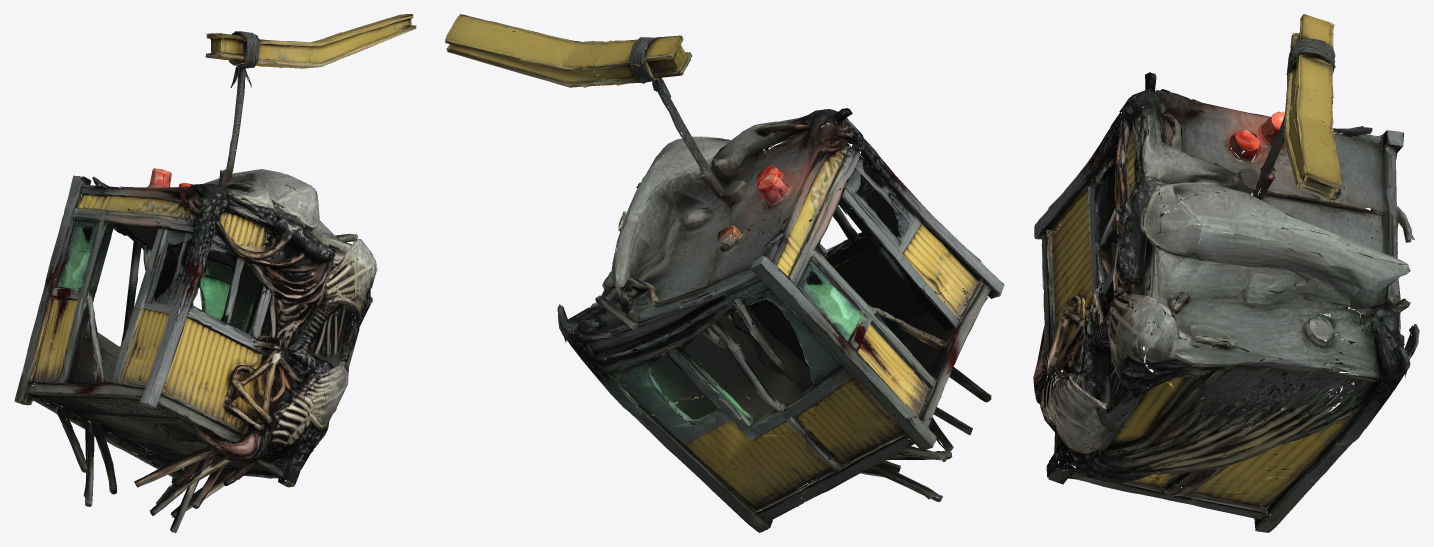
Rendered from chasm_hanging_elevator.glb.
3 views of the same model, side by side, from view 1: azimuth 30°, elevation 25°; view 2: azimuth 150°, elevation 25°; view 3: azimuth 270°, elevation 25° (orthographic). The views are drawn at different scales.
Parts seen in each view (by area): view 1: node_0; view 2: node_0; view 3: node_0.
Boxes of the visible parts, x1=… form: node_0: x1=14, y1=14, x2=416, y2=532; node_0: x1=445, y1=14, x2=1004, y2=532; node_0: x1=1033, y1=14, x2=1419, y2=532.
Bounding box in the file's own units: 0.8889 × 0.899 × 0.5697.
Materials: 1 (1 with a texture image).
